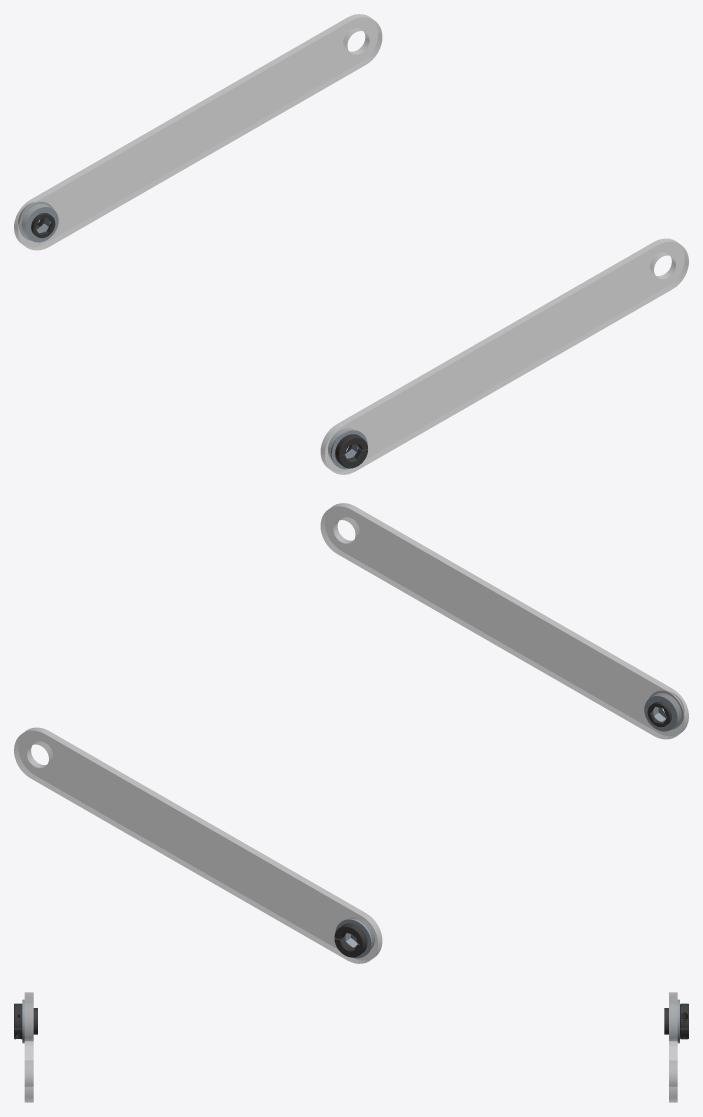
The picture shows the model from 3 angles, top to bottom: view 1: azimuth 30°, elevation 25°; view 2: azimuth 150°, elevation 25°; view 3: azimuth 270°, elevation 25°; orthographic projection. The views are drawn at different scales.
Visible parts, largest first — view 1: 1/2" Hex Clamping Shaft Collar (217-2737).003; view 2: 1/2" Hex Clamping Shaft Collar (217-2737).003; view 3: 1/2" Hex Clamping Shaft Collar (217-2737).003.
Boxes of the visible parts, <box> form: 1/2" Hex Clamping Shaft Collar (217-2737).003: <box>14,14,688,474</box>; 1/2" Hex Clamping Shaft Collar (217-2737).003: <box>14,503,688,963</box>; 1/2" Hex Clamping Shaft Collar (217-2737).003: <box>14,992,688,1102</box>.
Bounding box in the file's own units: 0.3136 × 0.1273 × 0.479.
